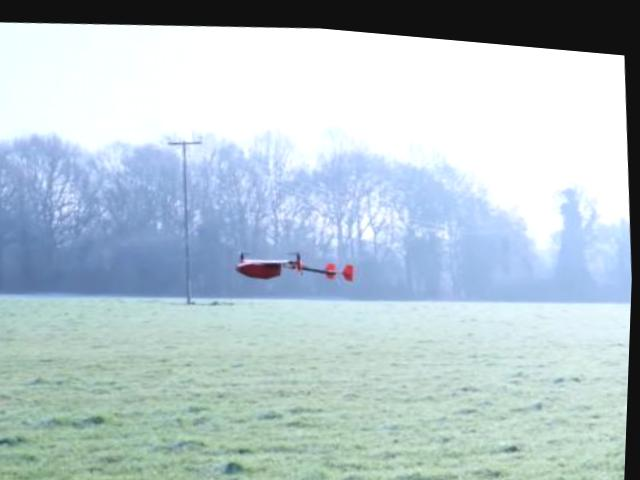uav: (233, 234, 358, 285)
